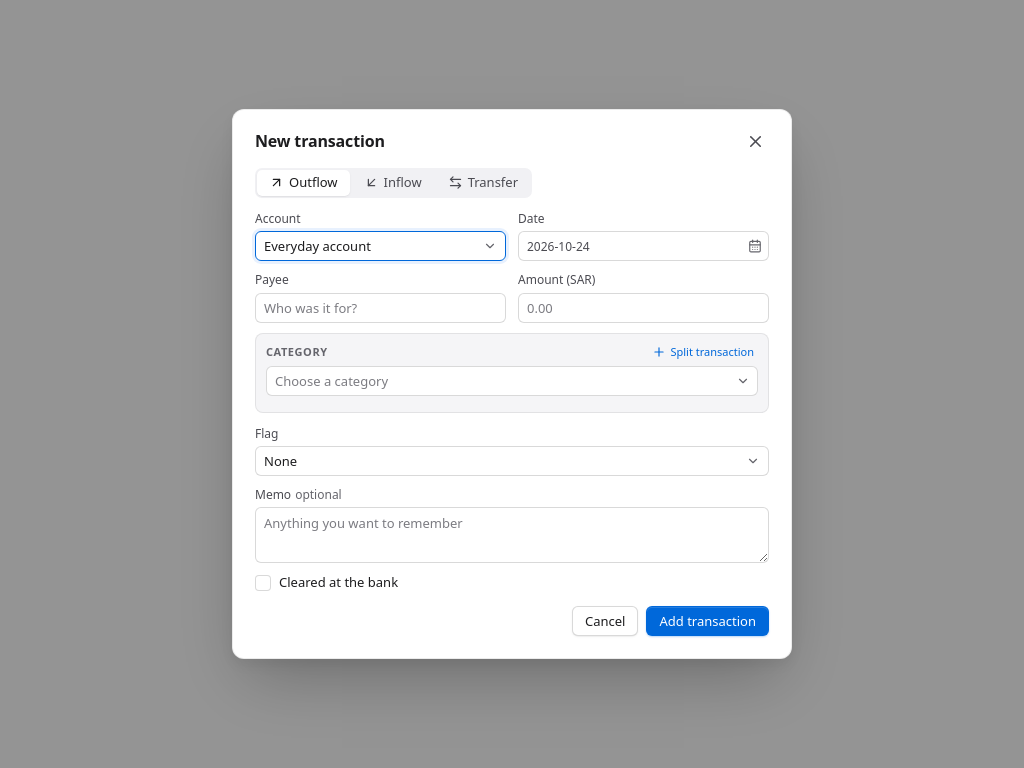
Test: retries a failed new transaction save with the same ID
The image size is (1024, 768).
Step 1. Click the button "Inflow" → [393, 183], box [352,170,434,196]
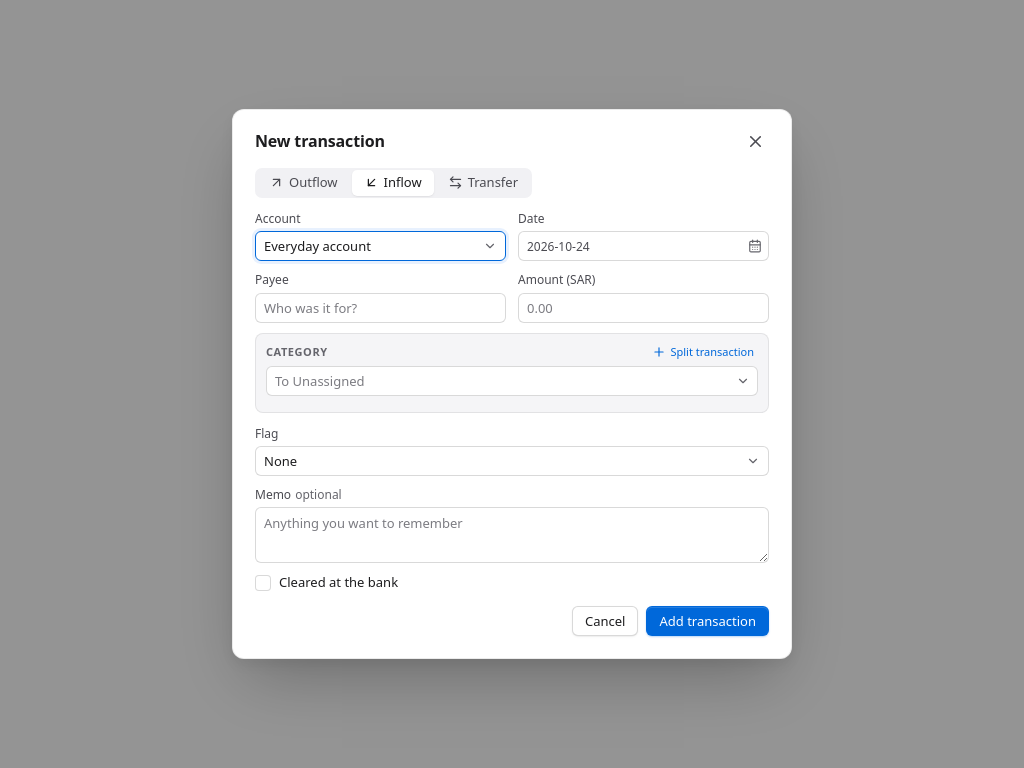
Step 2. Type "25" into the field with placeholder "0.00" → [644, 308], box [518,293,769,323]
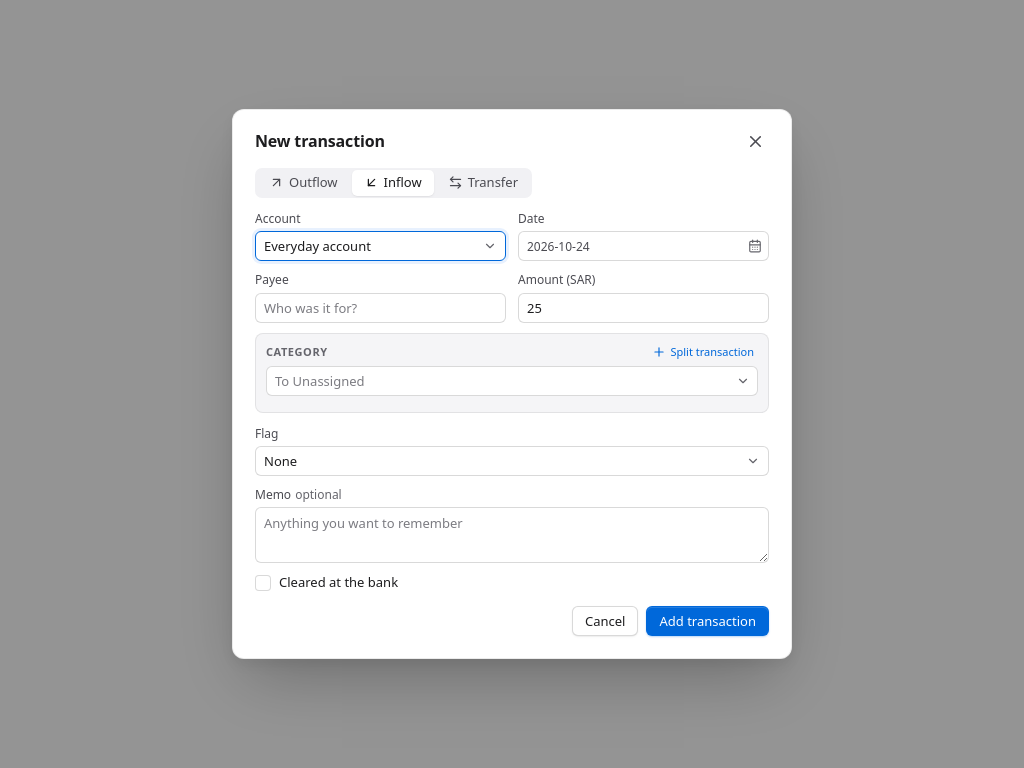
Step 3. Click the button "Add transaction" → [708, 621], box [646,606,769,636]
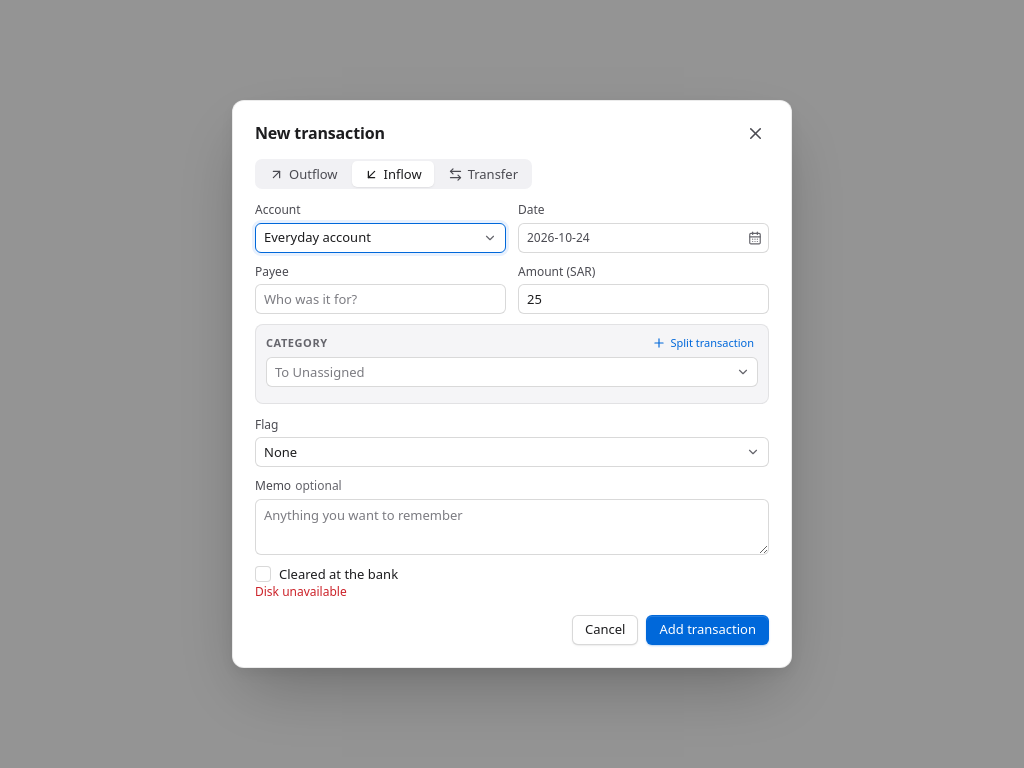
Now the message reads "Disk unavailable", box [255,584,347,600]
Step 4. Click the button "Add transaction" → [708, 630], box [646,615,769,645]
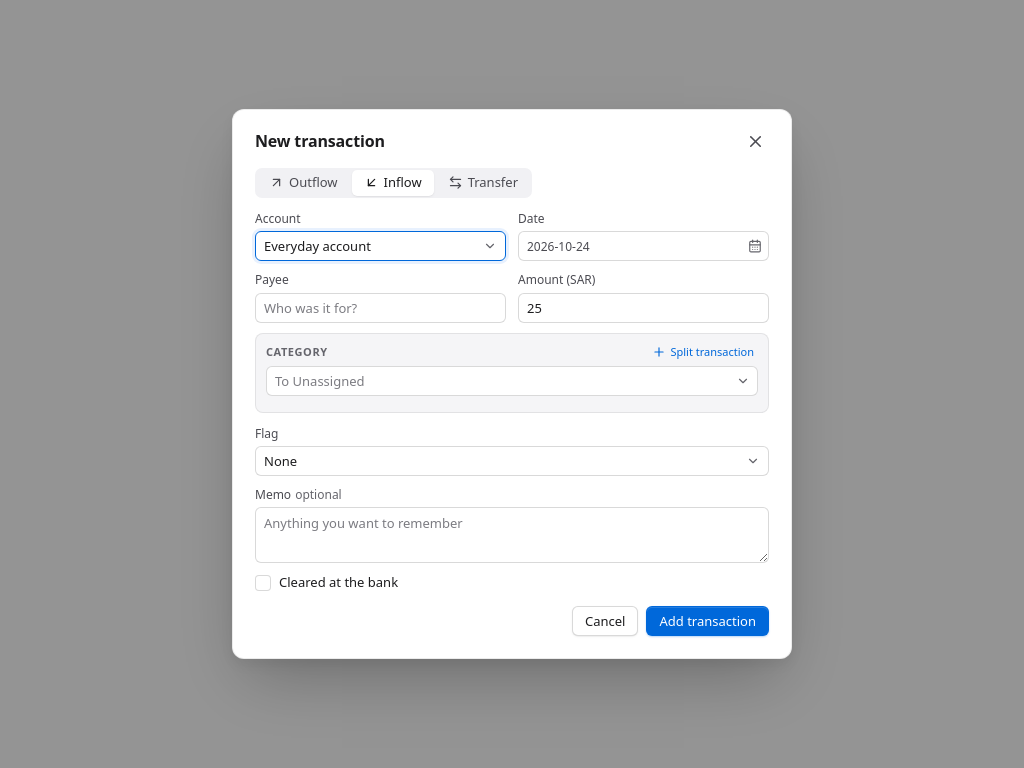
Now the message "Disk unavailable" is gone
